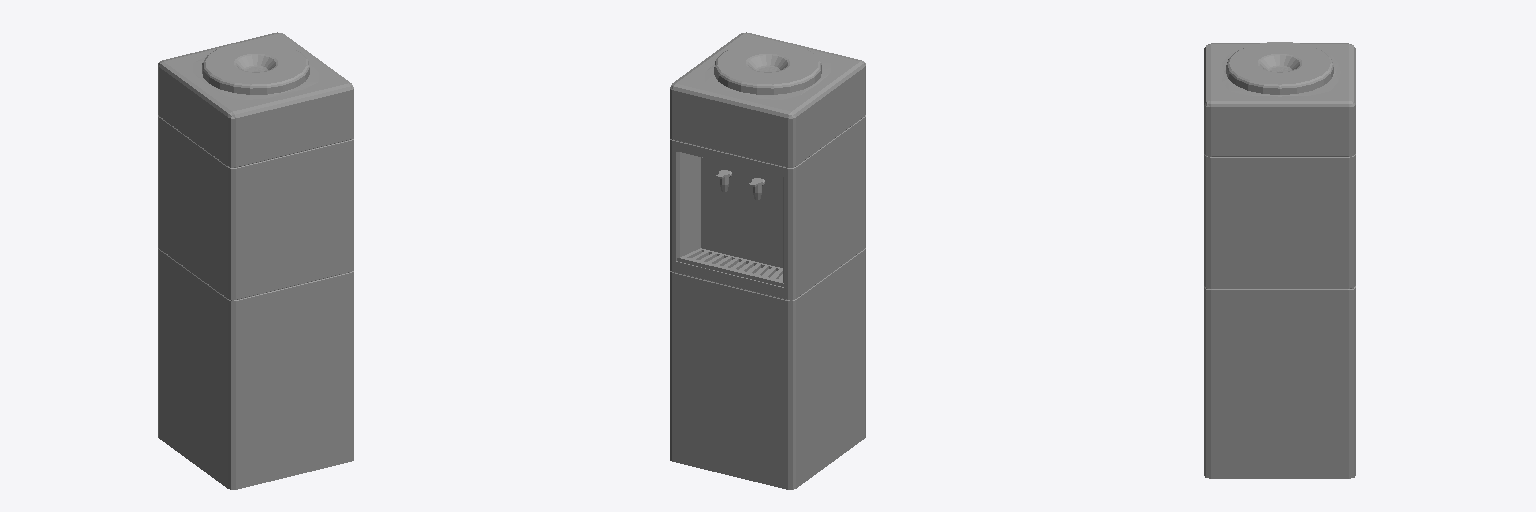
File: water_dispenser.obj
The picture shows the model from 3 angles: view 1: azimuth 30°, elevation 25°; view 2: azimuth 150°, elevation 25°; view 3: azimuth 270°, elevation 25°; orthographic projection.
Parts seen in each view (by area): view 1: WaterCooler_Cube:246_Cube:249; view 2: WaterCooler_Cube:246_Cube:249; view 3: WaterCooler_Cube:246_Cube:249.
Part boxes in pixels (x1,y1,x2,y2): WaterCooler_Cube:246_Cube:249: (158, 32, 353, 489); WaterCooler_Cube:246_Cube:249: (670, 32, 865, 489); WaterCooler_Cube:246_Cube:249: (1204, 42, 1355, 478).
Bounding box in the file's own units: 2 × 5.87 × 2.08.